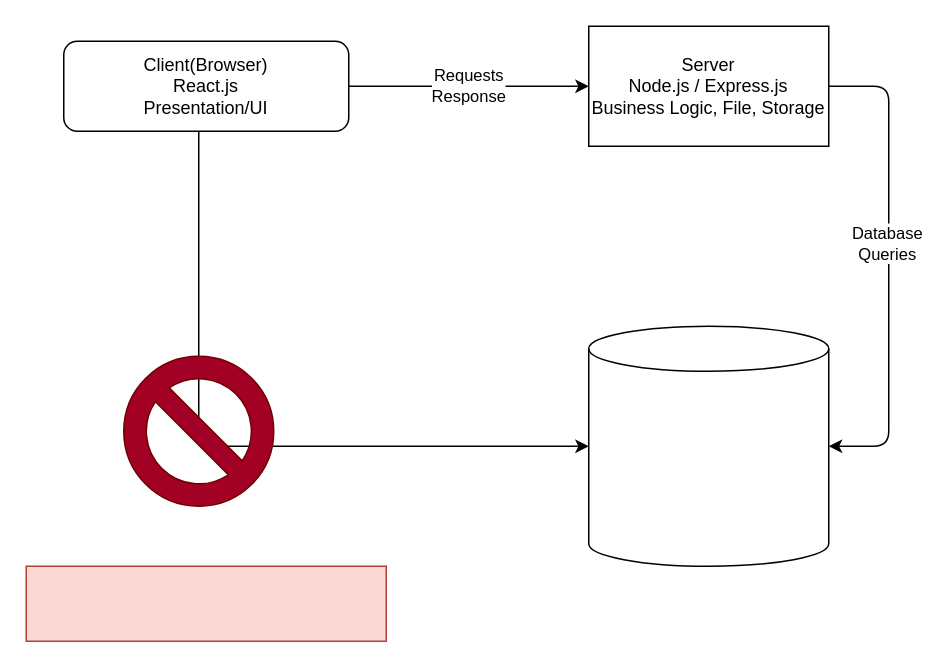
The diagram is 948 pixels wide and 668 high, and some of its shapes have lost their labels. The shapes that lost their labels are listed below. From the top down, each one's centre as x and y in pixels, then its label:
At point (708, 445): "Database Server mongoDB Persistent Data Storage".
At point (205, 603): "Credentials would be exposed in client-side code: HUGE security issue!".
